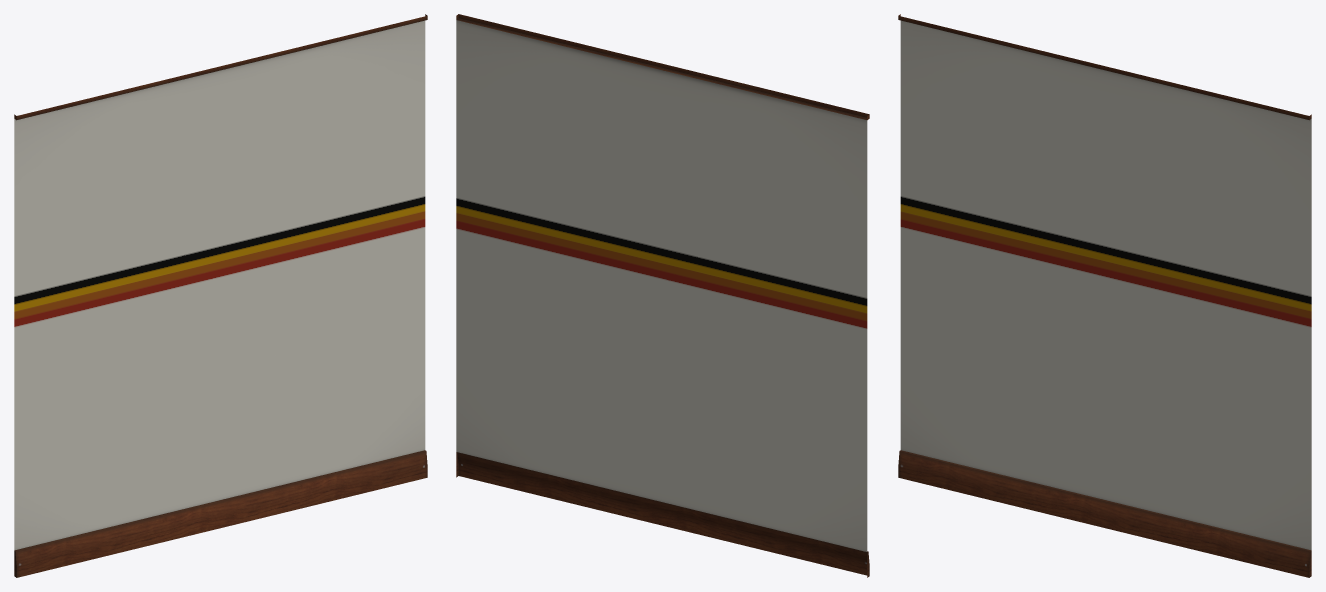
Rendered from video_store_wall.obj.
The picture shows the model from 3 angles, left to right: view 1: azimuth 30°, elevation 25°; view 2: azimuth 150°, elevation 25°; view 3: azimuth 330°, elevation 25°; orthographic projection.
Parts seen in each view (by area): view 1: Mesh1_Group2_Group1_Model; view 2: Mesh1_Group2_Group1_Model; view 3: Mesh1_Group2_Group1_Model.
Boxes of the visible parts, <box> form: Mesh1_Group2_Group1_Model: <box>14,14,427,577</box>; Mesh1_Group2_Group1_Model: <box>456,14,869,577</box>; Mesh1_Group2_Group1_Model: <box>898,14,1311,577</box>.
Size of the model in its own units: 2 by 2.15 by 0.02.
Materials: 1 (1 with a texture image).
